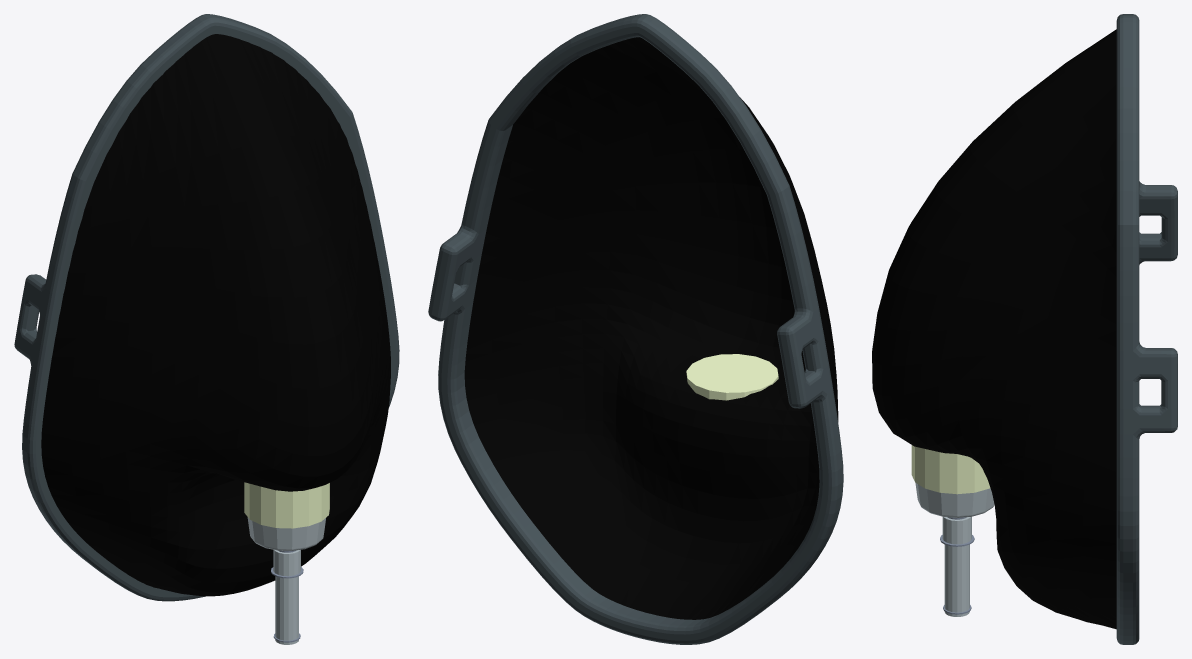
File: 氧氣罩.fbx
3 views of the same model, side by side, from view 1: azimuth 30°, elevation 25°; view 2: azimuth 150°, elevation 25°; view 3: azimuth 270°, elevation 25° (orthographic). The views are drawn at different scales.
Visible parts, largest first — view 1: 贝赛尔_2, 贝赛尔_1, 圆柱, 圆锥, 圆柱_3, 圆柱_2; view 2: 贝赛尔_2, 贝赛尔_1, 圆柱; view 3: 贝赛尔_2, 贝赛尔_1, 圆柱, 圆锥, 圆柱_3, 圆柱_2.
Part boxes in pixels (left/top/right/bottom): 贝赛尔_2: left=41, top=34, right=390, bottom=596; 贝赛尔_1: left=14, top=14, right=399, bottom=601; 圆柱: left=244, top=482, right=329, bottom=528; 圆锥: left=247, top=517, right=325, bottom=550; 圆柱_3: left=275, top=576, right=298, bottom=644; 圆柱_2: left=273, top=550, right=300, bottom=576; 贝赛尔_2: left=464, top=37, right=838, bottom=619; 贝赛尔_1: left=428, top=14, right=843, bottom=644; 圆柱: left=686, top=354, right=778, bottom=400; 贝赛尔_2: left=872, top=29, right=1116, bottom=629; 贝赛尔_1: left=1116, top=14, right=1177, bottom=644; 圆柱: left=911, top=445, right=990, bottom=494; 圆锥: left=915, top=482, right=994, bottom=517; 圆柱_3: left=944, top=544, right=969, bottom=616; 圆柱_2: left=942, top=517, right=971, bottom=544.
Size of the model in its own units: 252 by 374 by 170.
